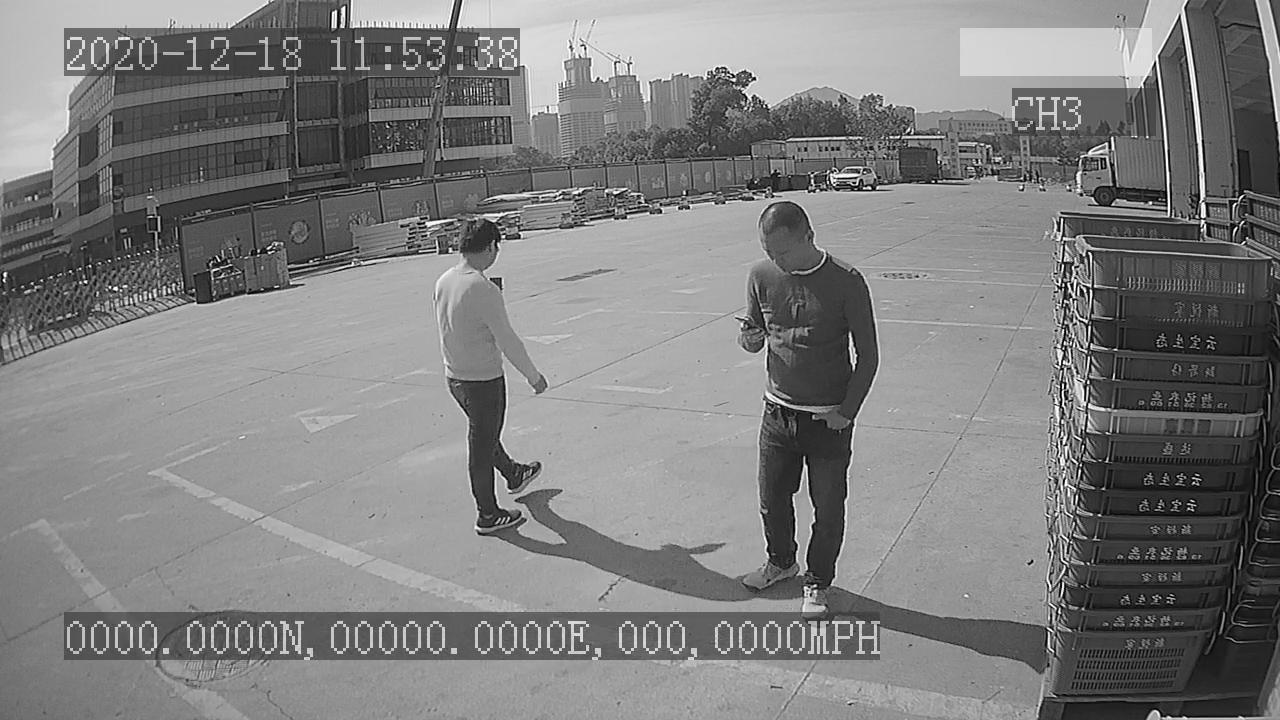person: (427, 211, 560, 542)
